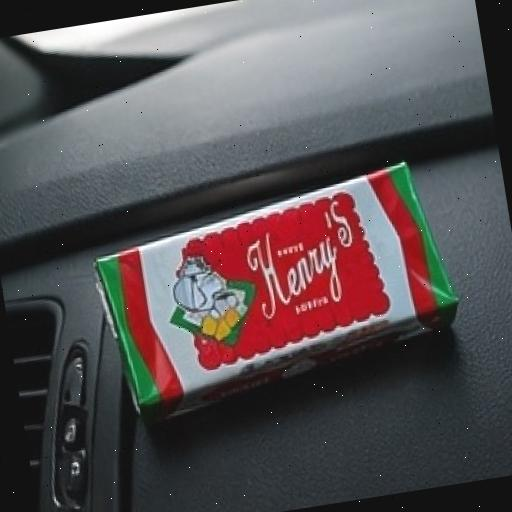golden: (26, 121, 503, 479)
